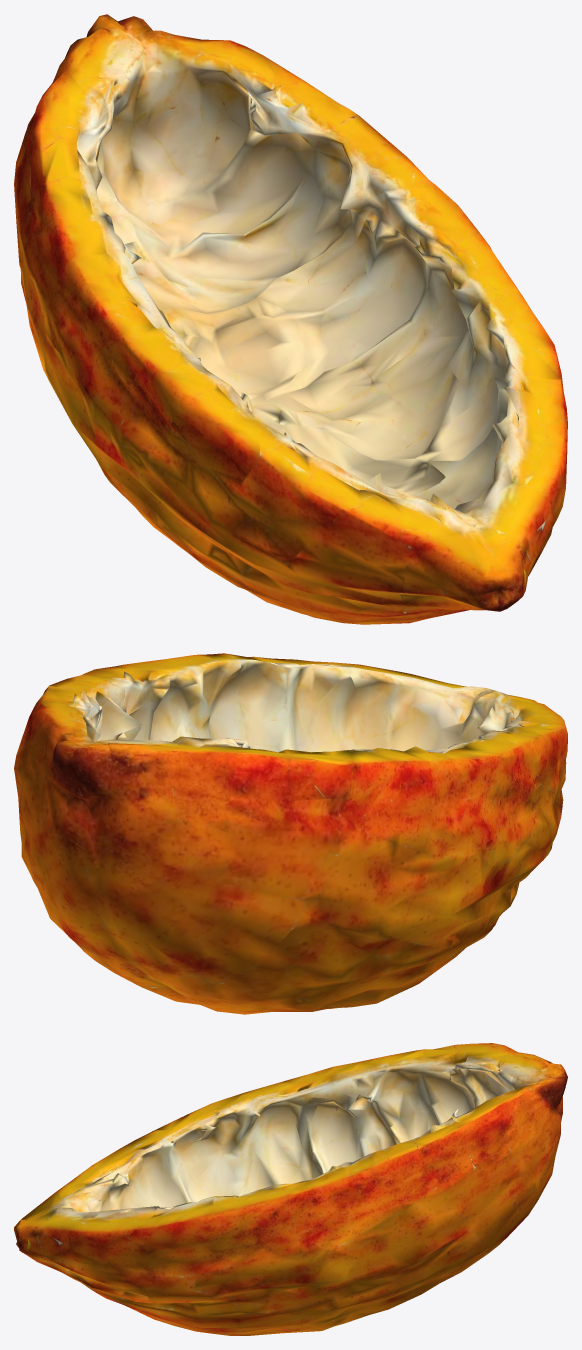
Rendered from golden-cacao-husk.glb.
3 renders of one model, top to bottom at view 1: azimuth 30°, elevation 25°; view 2: azimuth 150°, elevation 25°; view 3: azimuth 270°, elevation 25°, orthographic. The views are drawn at different scales.
Size of the model in its own units: 1.04 by 0.9783 by 1.9.
1 material, 1 textured.
